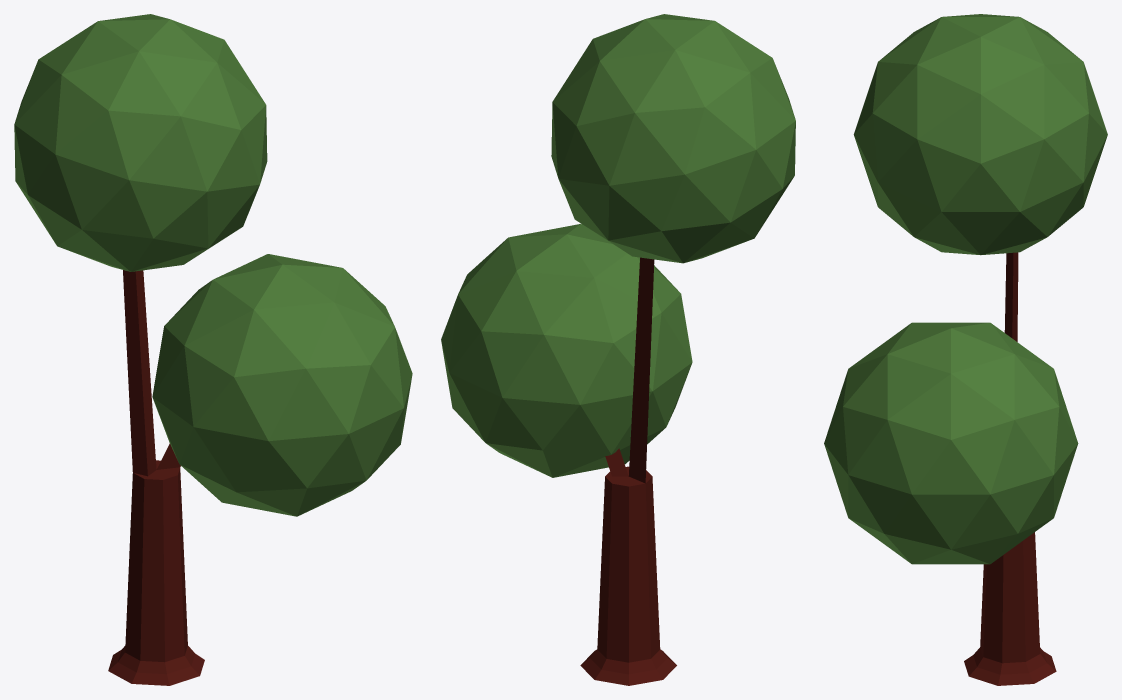
Rendered from agac3.fbx.
The picture shows the model from 3 angles, left to right: view 1: azimuth 30°, elevation 25°; view 2: azimuth 150°, elevation 25°; view 3: azimuth 270°, elevation 25°; orthographic projection. The views are drawn at different scales.
Visible parts, largest first — view 1: Cylinder.003; view 2: Cylinder.003; view 3: Cylinder.003.
Boxes of the visible parts, x1,y1,x2,y2 form: Cylinder.003: (14,14,412,685); Cylinder.003: (441,14,795,685); Cylinder.003: (824,14,1107,685).
Bounding box in the file's own units: 70.69 × 128 × 52.19.
